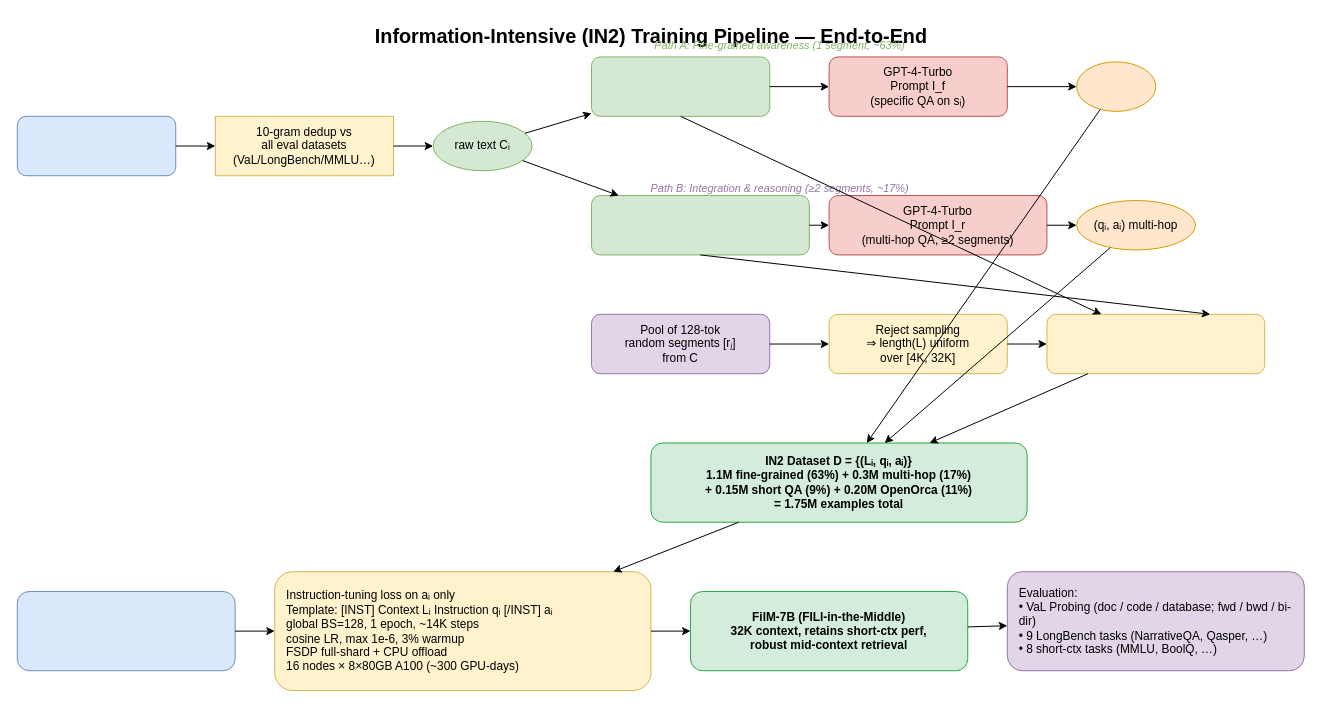
Some shapes in this 1322 by 708 pixel diagram are drawn without their labels. The centre of each missing label's shape, as x and y in pixels:
"(qᵢ, aᵢ)" belongs at [1116,86].
"C4 realnewslike (corpus C) ~600 tok/doc avg" belongs at [96,145].
"Mistral-7B-Instruct-v0.2 (no sliding window; RoPE base θ = 1e6 default)" belongs at [125,631].
"Shuffle & concat Lᵢ = ⊕Shuffle({sᵢ⋯} ∪ {rⱼ})" belongs at [1155,343].
"Split full Cᵢ into K 128-tok segments [sᵢ¹,sᵢ²,…]" belongs at [700,225].
"Split into 1 random 128-tok segment sᵢ" belongs at [680,86].
